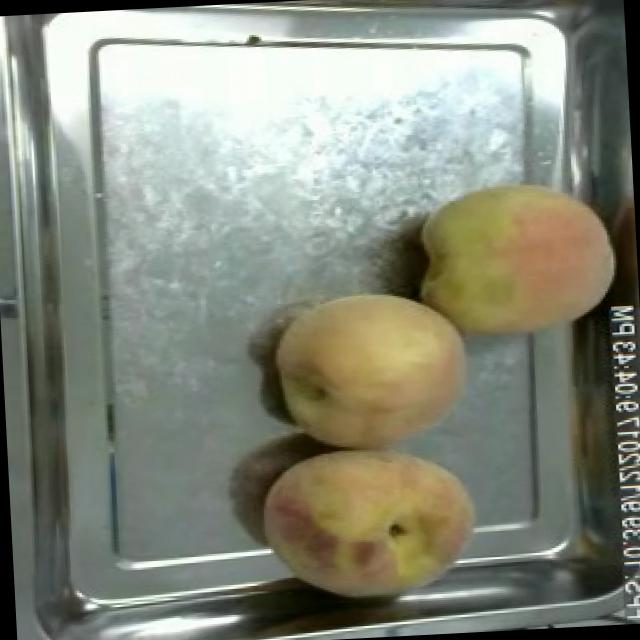Fruit: (248, 432, 487, 618), (404, 164, 629, 353), (261, 278, 484, 463)
